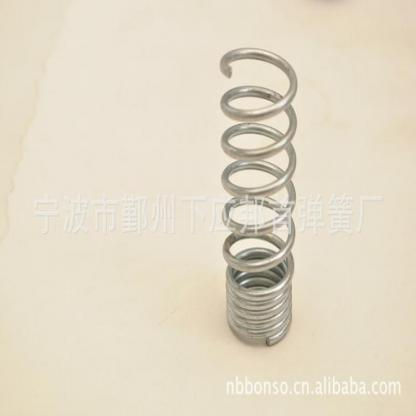FOD: (216, 38, 302, 354)
